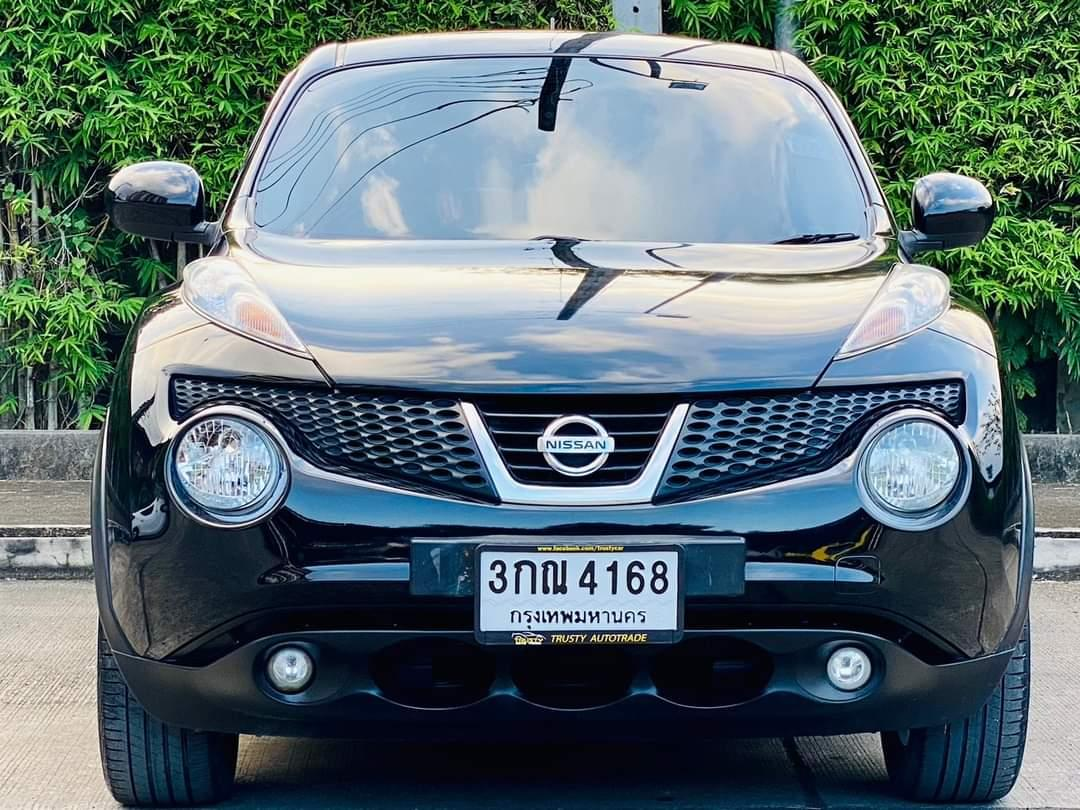license-plate: (467, 539, 688, 651)
